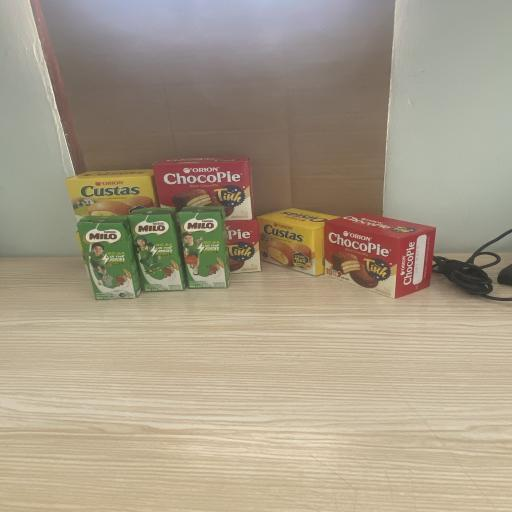chocopie: (323, 212, 437, 298), (149, 154, 254, 222), (228, 210, 262, 274)
custas: (65, 169, 158, 249), (254, 207, 342, 276)
milo: (75, 214, 141, 301), (126, 206, 186, 292), (176, 206, 232, 290)
